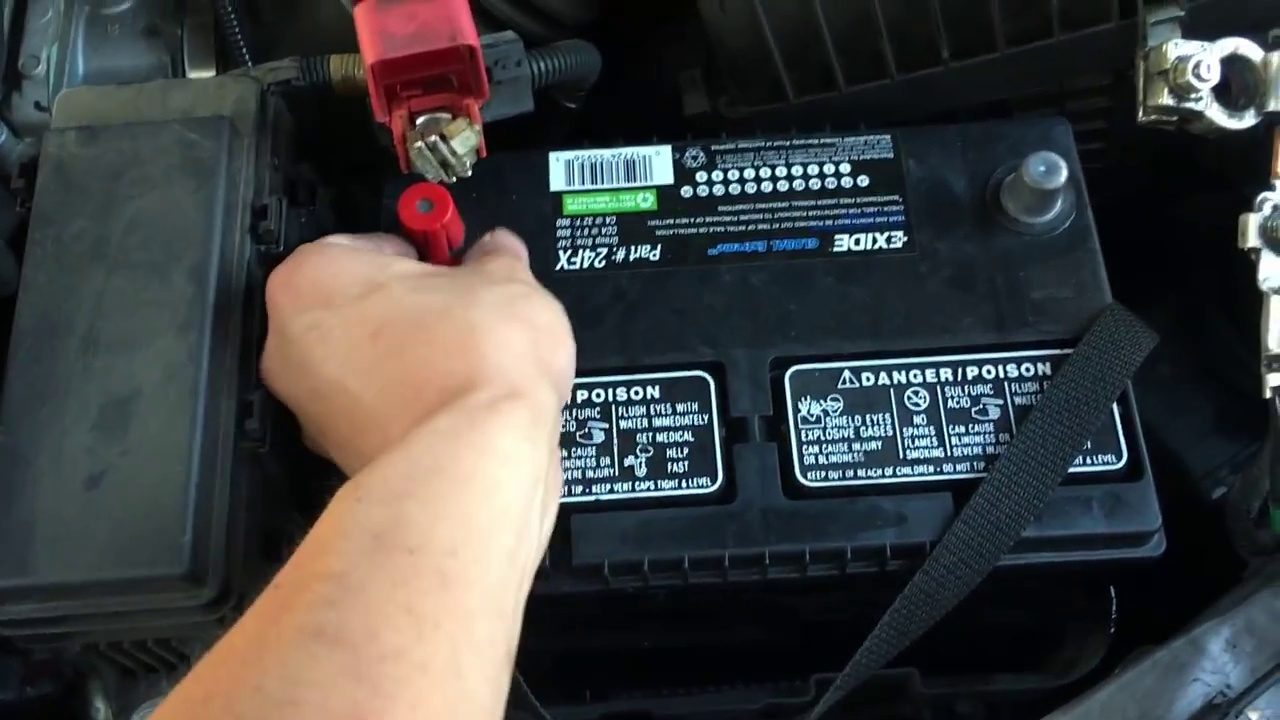battery: (374, 135, 1147, 552)
neg_disconnected: (975, 135, 1118, 241)
pos_disconnected: (346, 36, 497, 267)
pos_touched: (261, 21, 557, 396)
